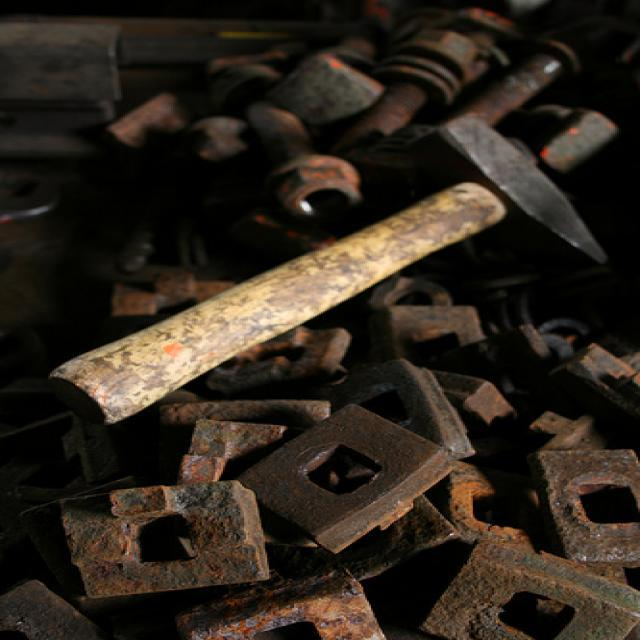hammer: (42, 103, 622, 434)
